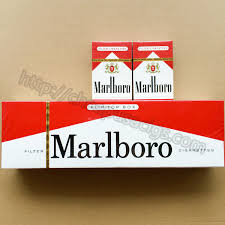marlboro: (92, 42, 132, 99), (134, 41, 173, 99)
